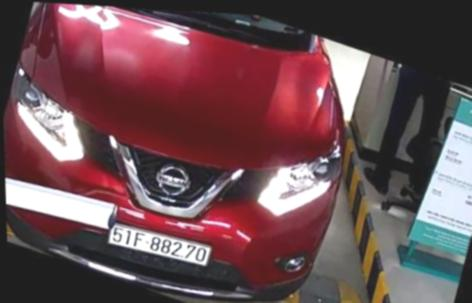License_Plate: (104, 222, 221, 276)
